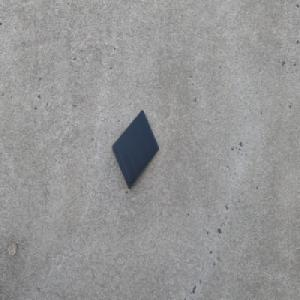PlasticPart: (111, 109, 159, 190)
